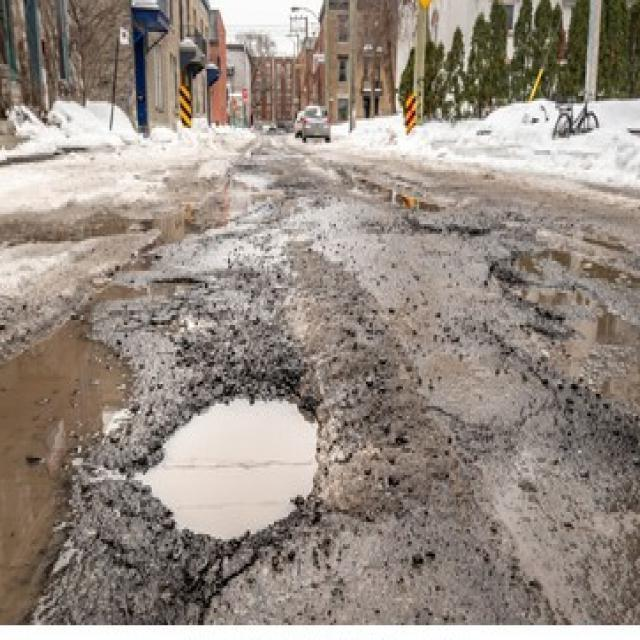Pothole: (143, 399, 317, 542)
